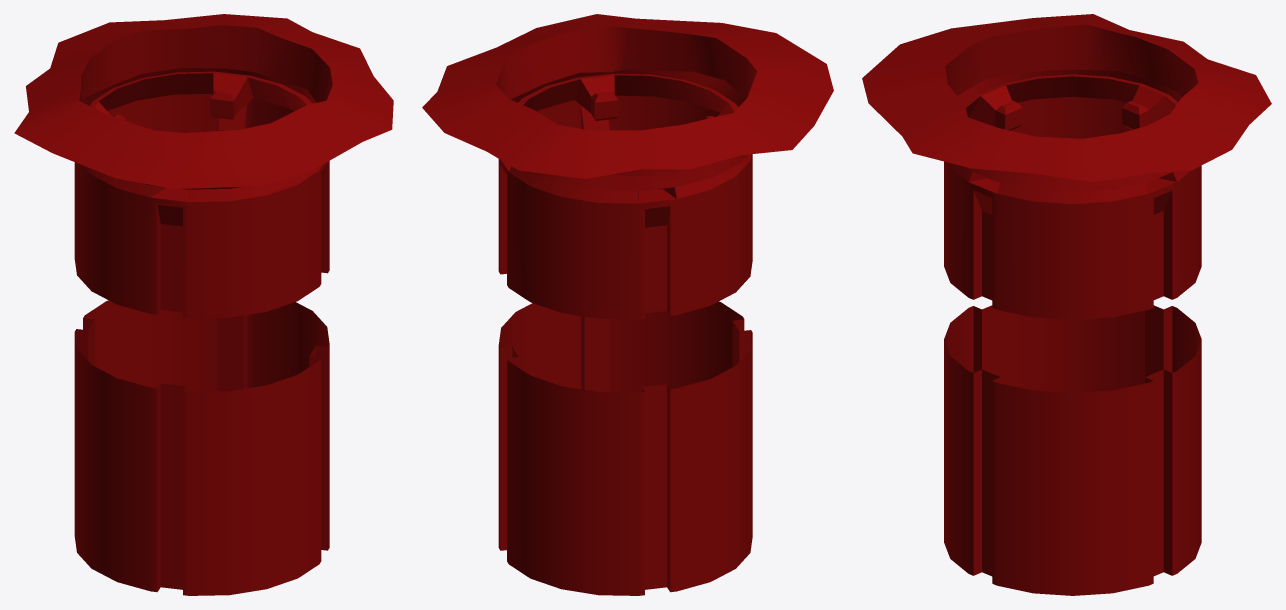
File: MESH_HellMouth_Pack(Depreciated).fbx
The picture shows the model from 3 angles, left to right: view 1: azimuth 30°, elevation 25°; view 2: azimuth 150°, elevation 25°; view 3: azimuth 270°, elevation 25°; orthographic projection.
Visible parts, largest first — view 1: Hellmouth_Entrance, Hellmouth_Hole; view 2: Hellmouth_Entrance, Hellmouth_Hole; view 3: Hellmouth_Entrance, Hellmouth_Hole.
Part boxes in pixels (x1=…): Hellmouth_Entrance: x1=14, y1=14, x2=393, y2=318; Hellmouth_Hole: x1=74, y1=300, x2=329, y2=595; Hellmouth_Entrance: x1=422, y1=14, x2=833, y2=319; Hellmouth_Hole: x1=498, y1=301, x2=752, y2=595; Hellmouth_Entrance: x1=862, y1=14, x2=1271, y2=319; Hellmouth_Hole: x1=944, y1=305, x2=1201, y2=595.
Size of the model in its own units: 14.2 by 18.23 by 14.63.
